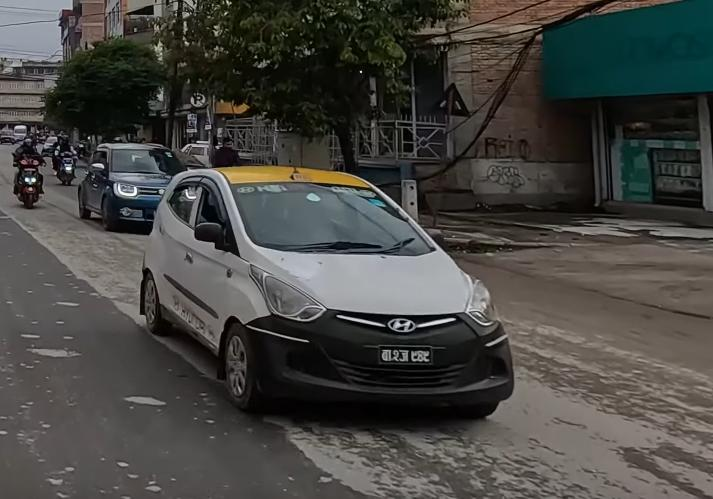car: (75, 141, 197, 236)
scooter: (9, 153, 45, 209), (56, 152, 77, 188)
taxi: (137, 155, 525, 434)
